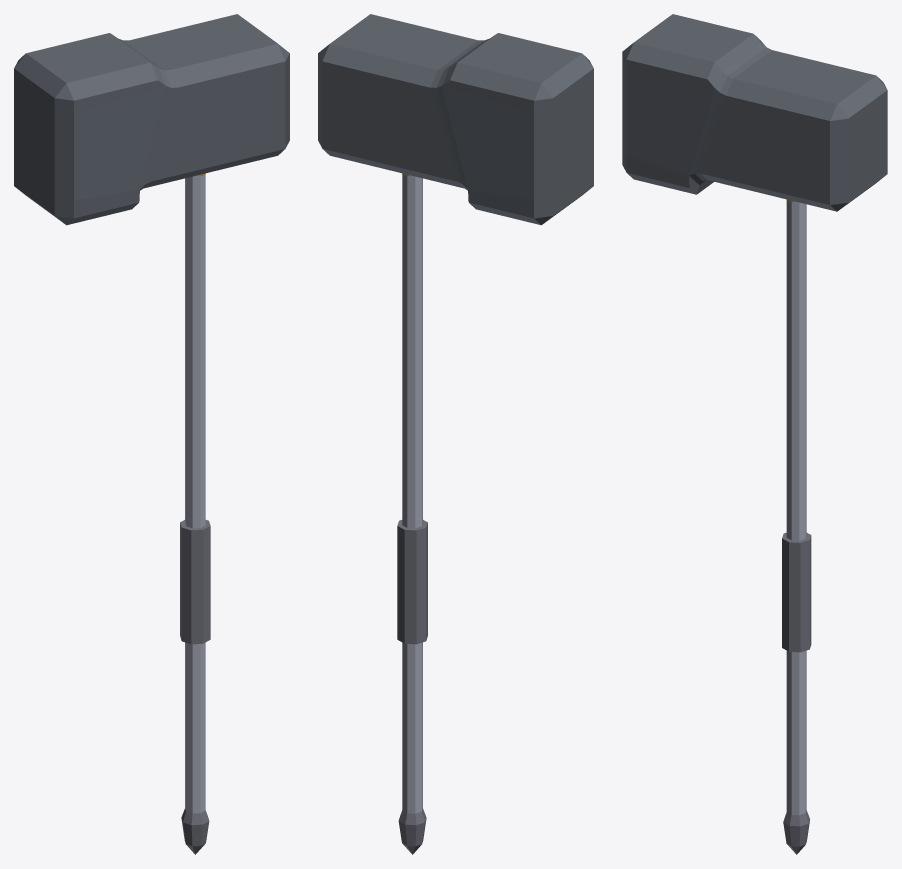
File: Mazo_Grande.fbx
3 renders of one model, left to right at view 1: azimuth 30°, elevation 25°; view 2: azimuth 150°, elevation 25°; view 3: azimuth 330°, elevation 25°, orthographic. The views are drawn at different scales.
Parts seen in each view (by area): view 1: Mazo Grande; view 2: Mazo Grande; view 3: Mazo Grande.
Part boxes in pixels (left/top/right/bottom): Mazo Grande: left=14, top=14, right=289, bottom=854; Mazo Grande: left=318, top=14, right=593, bottom=854; Mazo Grande: left=622, top=14, right=887, bottom=854.
Size of the model in its own units: 99.35 by 332 by 41.26.
